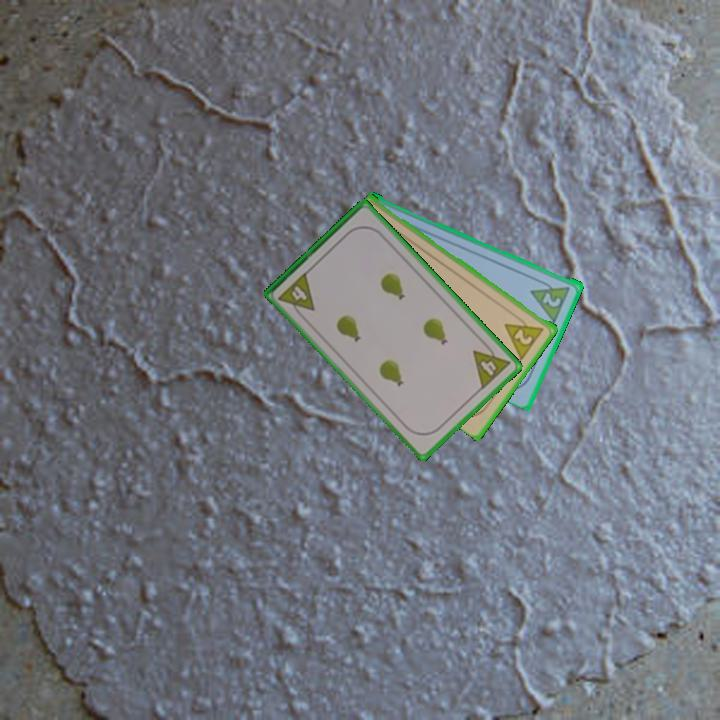2p: (501, 311, 548, 362), (539, 289, 564, 310)
4p: (469, 338, 514, 392), (275, 268, 318, 322)
